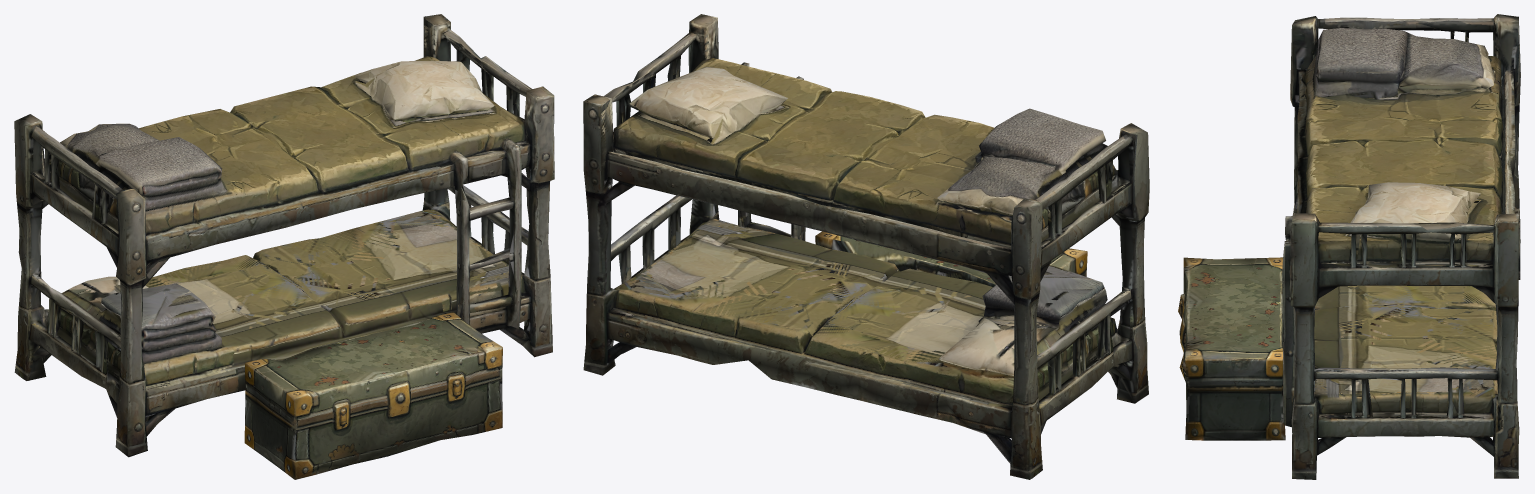
The model's file is EX_Mil_BunkBed.fbx.
3 views of the same model, side by side, from view 1: azimuth 30°, elevation 25°; view 2: azimuth 150°, elevation 25°; view 3: azimuth 270°, elevation 25° (orthographic). The views are drawn at different scales.
Visible parts, largest first — view 1: texture_mapping; view 2: texture_mapping; view 3: texture_mapping.
Part boxes in pixels (x1,y1,x2,y2): texture_mapping: (14, 14, 554, 479); texture_mapping: (583, 14, 1149, 479); texture_mapping: (1178, 14, 1520, 479).
Size of the model in its own units: 1 by 0.6903 by 0.615.
1 material, 1 textured.
